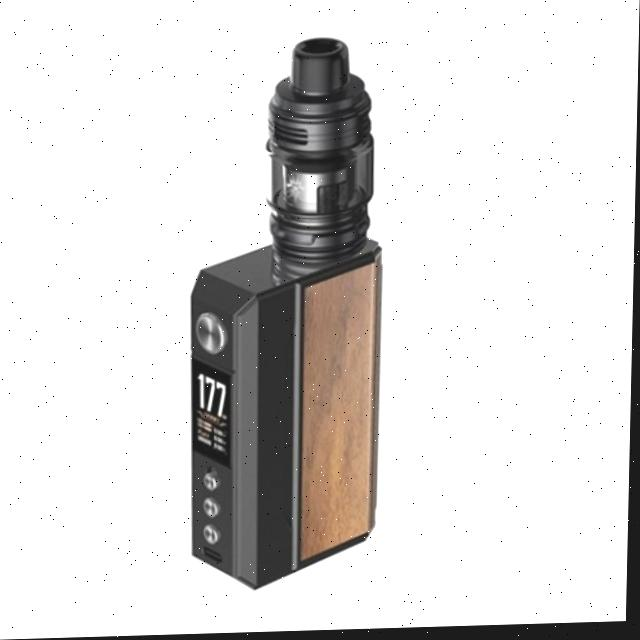vape: (188, 39, 391, 595)
